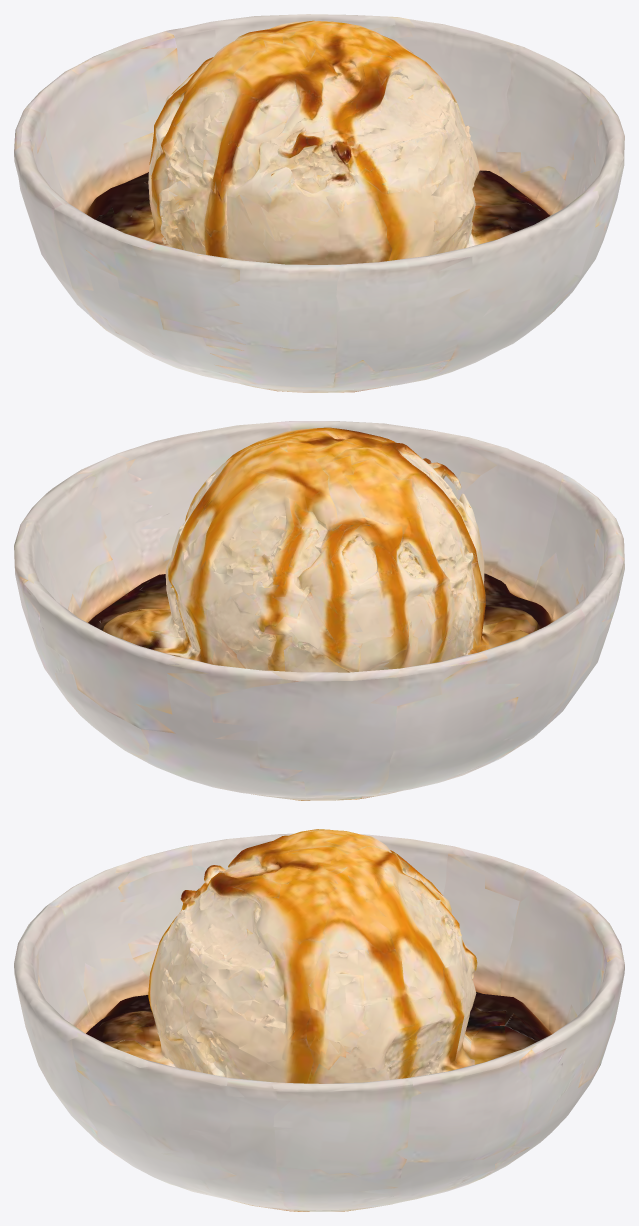
Rendered from three-oclock-lite.glb.
3 renders of one model, top to bottom at view 1: azimuth 30°, elevation 25°; view 2: azimuth 150°, elevation 25°; view 3: azimuth 270°, elevation 25°, orthographic.
Visible parts, largest first — view 1: Mesh_0; view 2: Mesh_0; view 3: Mesh_0.
Part boxes in pixels (x1,y1,x2,y2): Mesh_0: (14,14,624,392); Mesh_0: (14,421,624,800); Mesh_0: (14,829,624,1211).
Size of the model in its own units: 1.9 by 1.01 by 1.9.
Materials: 1 (1 with a texture image).
